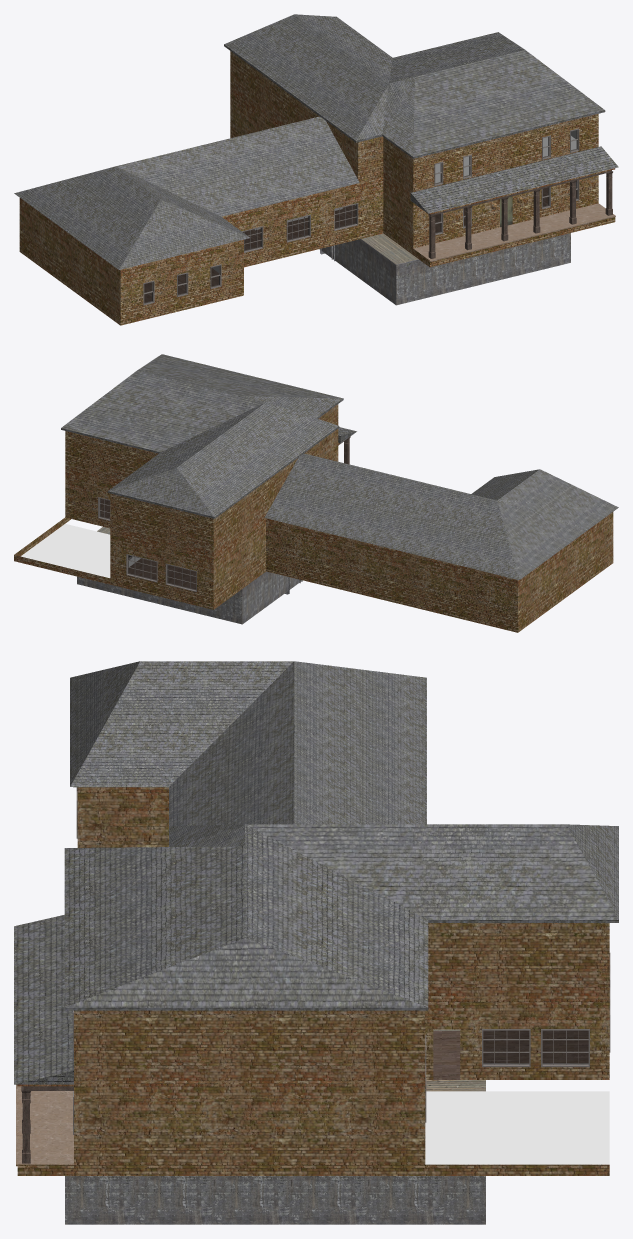
File: Abandoned_House.glb
The picture shows the model from 3 angles, top to bottom: view 1: azimuth 30°, elevation 25°; view 2: azimuth 150°, elevation 25°; view 3: azimuth 270°, elevation 25°; orthographic projection. The views are drawn at different scales.
Visible parts, largest first — view 1: HOUSE DO NOT DELETE, Piso.001, Ventana.006, Ventana.007, Ventana.008; view 2: HOUSE DO NOT DELETE, Piso.001, Ventana, Ventana.001; view 3: HOUSE DO NOT DELETE, Piso.001, Ventana.002, Ventana.003.
Boxes of the visible parts, x1,y1,x2,y2 form: HOUSE DO NOT DELETE: [14, 14, 618, 325]; Piso.001: [144, 187, 576, 302]; Ventana.006: [334, 203, 358, 230]; Ventana.007: [286, 214, 310, 242]; Ventana.008: [242, 226, 263, 252]; HOUSE DO NOT DELETE: [14, 354, 618, 632]; Piso.001: [100, 499, 196, 589]; Ventana: [126, 554, 157, 582]; Ventana.001: [165, 563, 196, 592]; HOUSE DO NOT DELETE: [14, 661, 618, 1224]; Piso.001: [433, 1030, 588, 1079]; Ventana.002: [541, 1029, 589, 1067]; Ventana.003: [482, 1029, 530, 1067].
Size of the model in its own units: 36.31 by 12.61 by 23.06.
15 materials, 12 textured.
